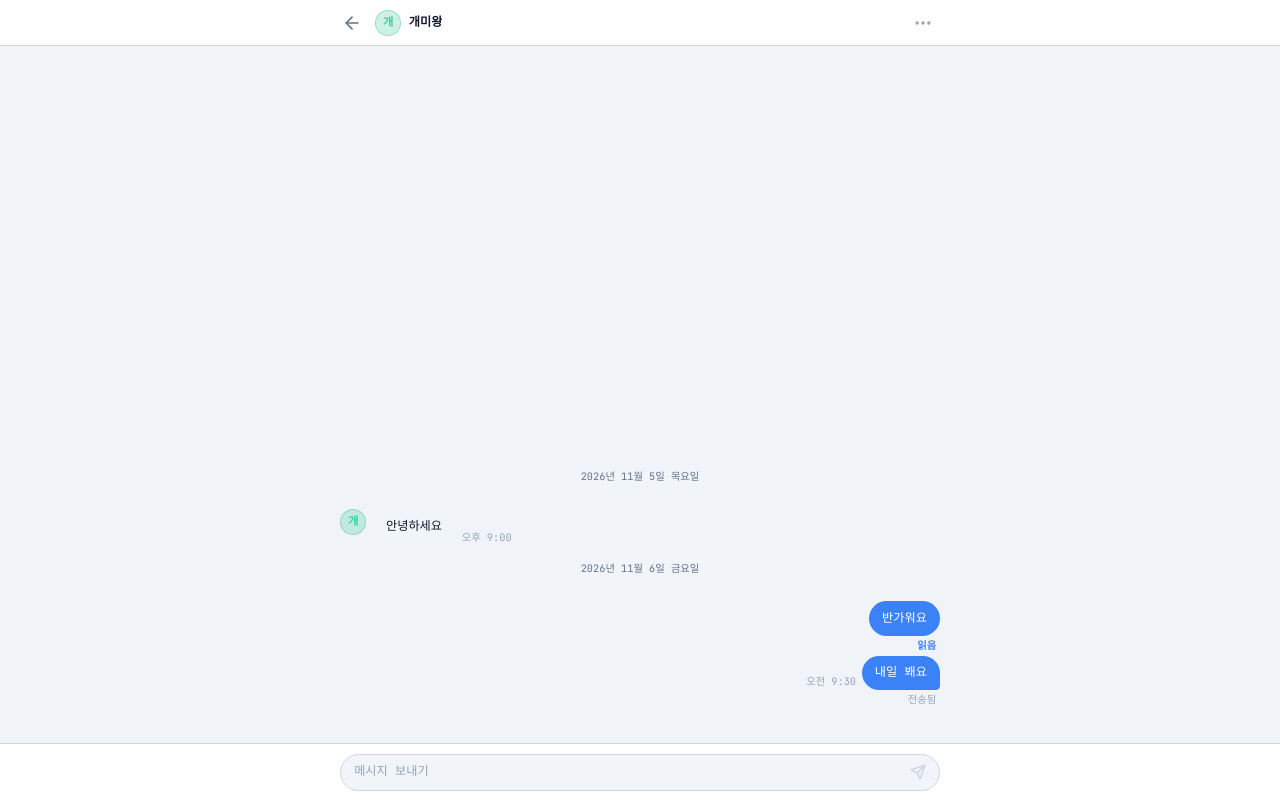
Scenario: 보내기 › 막혀서 못 보내면(403) 방을 다시 받아 까닭을 보인다
This screenshot has width=1280, height=800.
Expected: the button "안녕하세요" is shown, top-left (372, 509), bottom-right (456, 546)
Type "여보세요" into the text box named "메시지 쓰기" at (628, 772), box top-left (354, 762), bottom-right (902, 782)
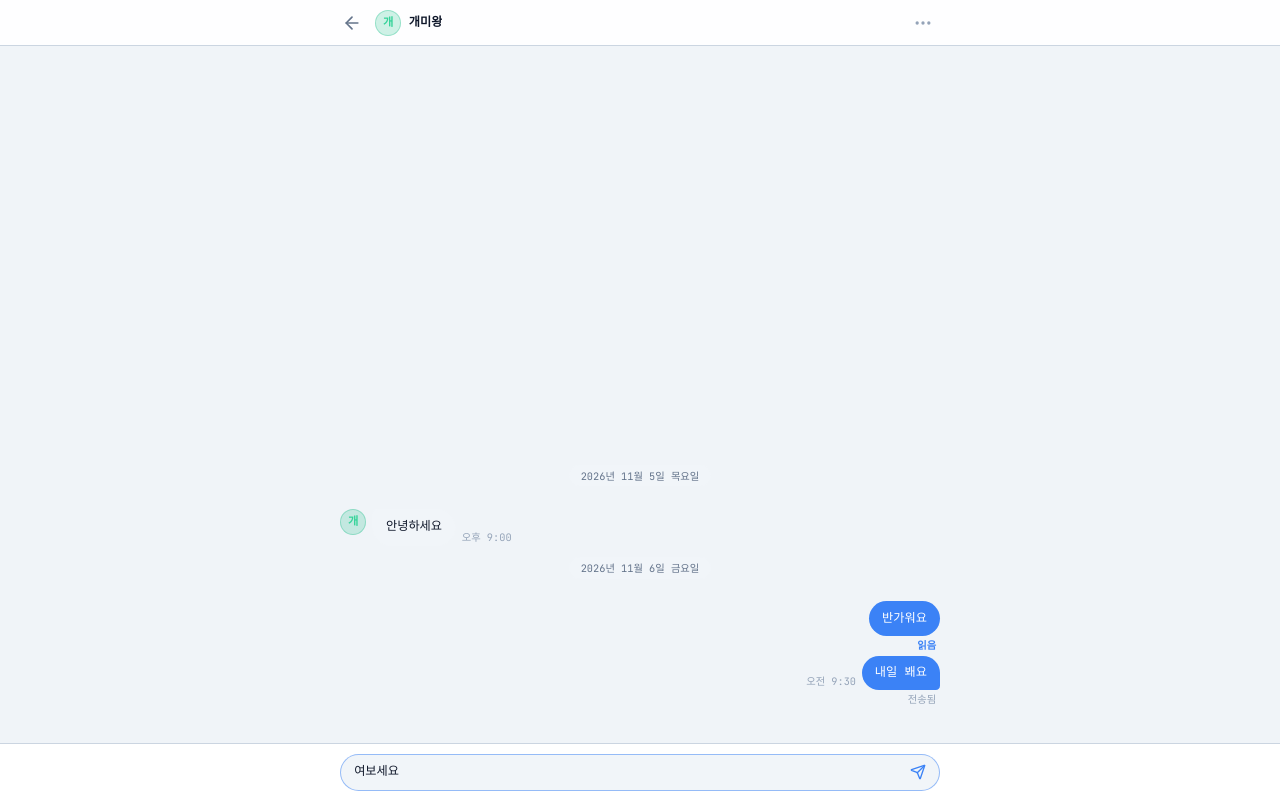
Click the button named "보내기" at (918, 772), box top-left (910, 764), bottom-right (926, 780)
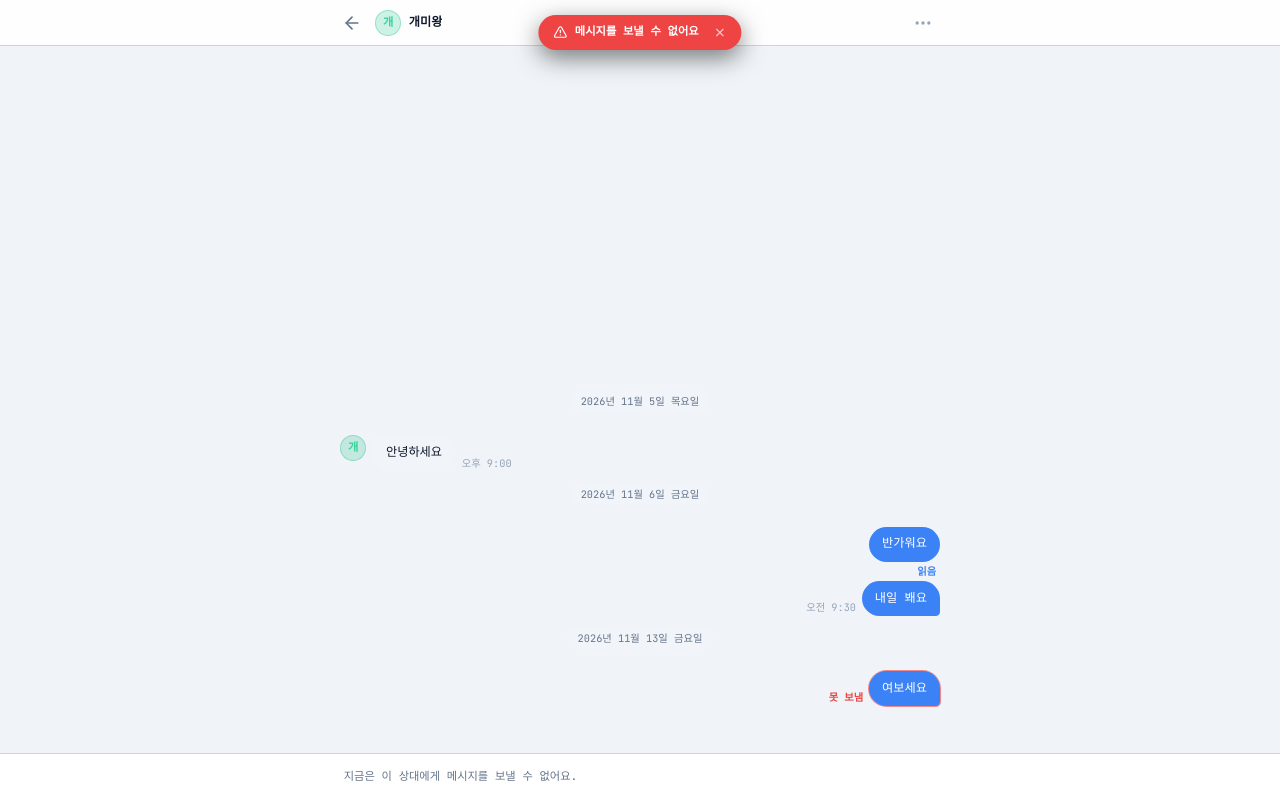
Result: the text "지금은 이 상대에게 메시지를 보낼 수 없어요." is shown at top-left (344, 769), bottom-right (577, 783)
// 못 보낸 말풍선은 지울 수 있다
Click the button "여보세요" at (904, 689), box top-left (869, 672), bottom-right (940, 706)
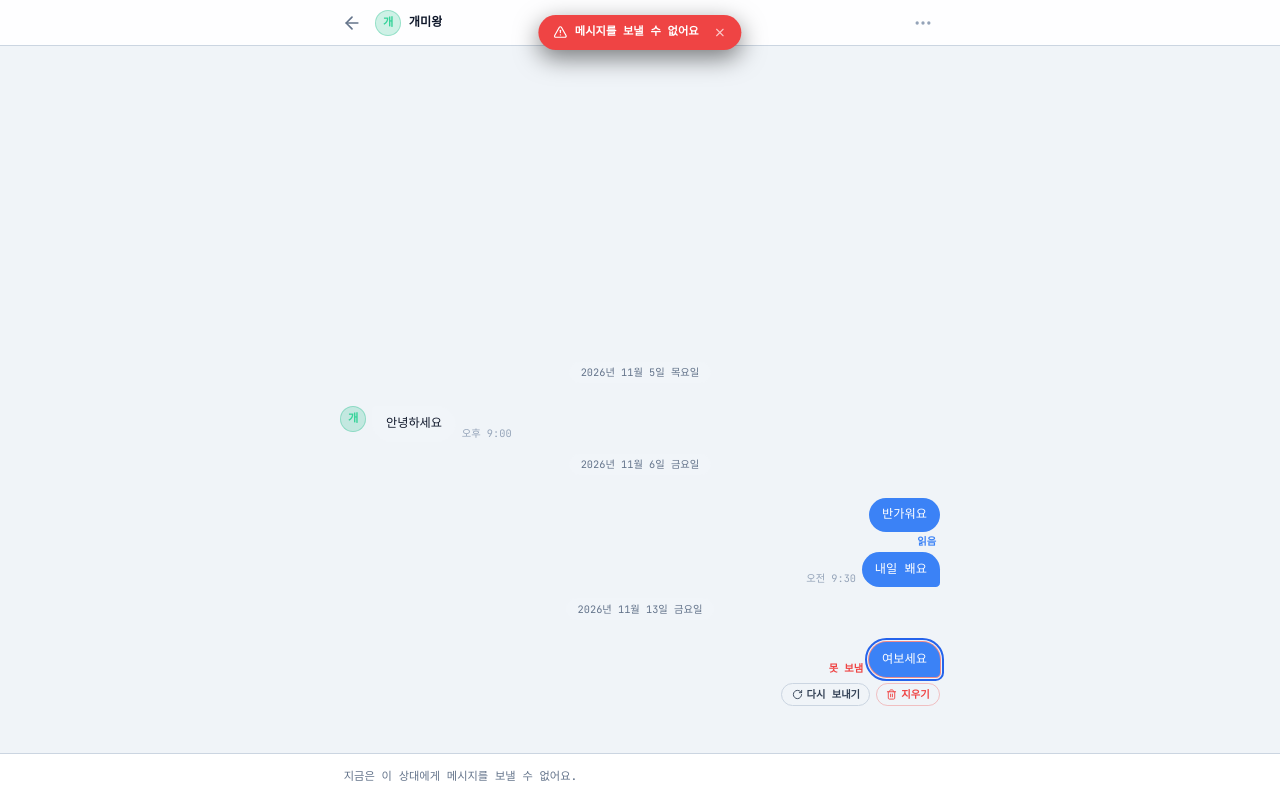
Click the button "지우기" at (908, 694), box top-left (876, 683), bottom-right (940, 706)
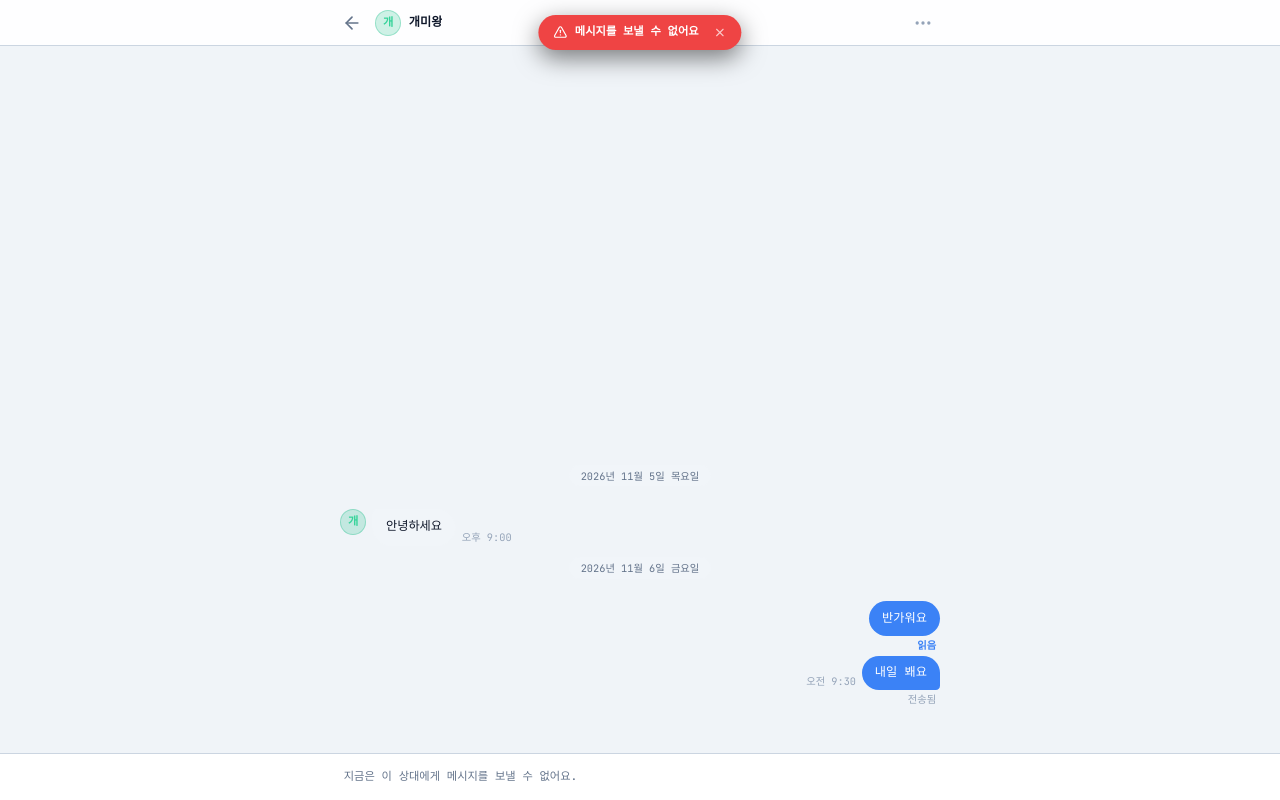
Result: the button "여보세요" is gone
